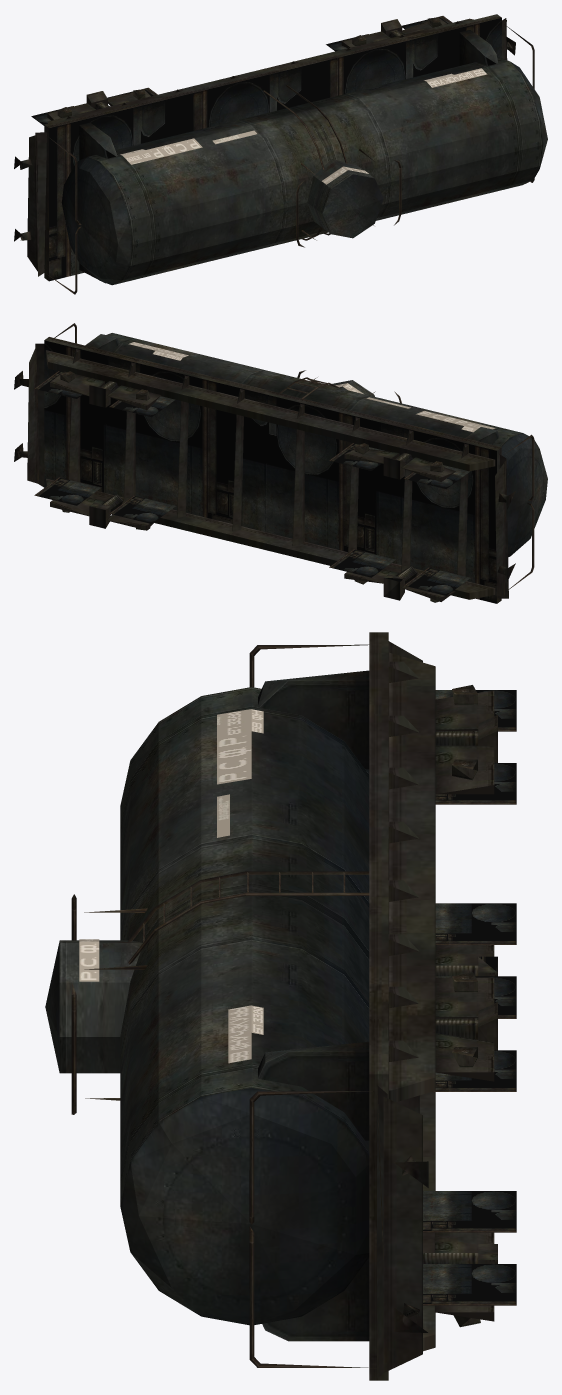
The model's file is prop_rail_fuelcar.glb.
3 renders of one model, top to bottom at view 1: azimuth 30°, elevation 25°; view 2: azimuth 150°, elevation 25°; view 3: azimuth 270°, elevation 25°, orthographic. The views are drawn at different scales.
Size of the model in its own units: 411 by 122 by 170.
Materials: 2 (2 with a texture image).
